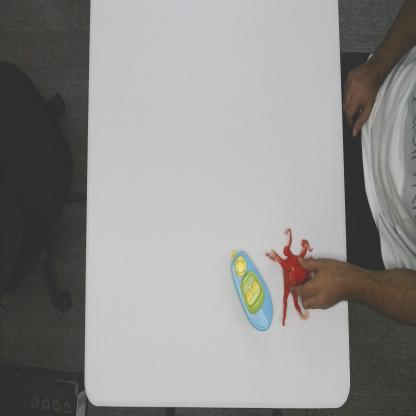Boat: (230, 246, 274, 333)
Hand: (288, 254, 347, 312)
Octopus: (266, 225, 316, 328)
